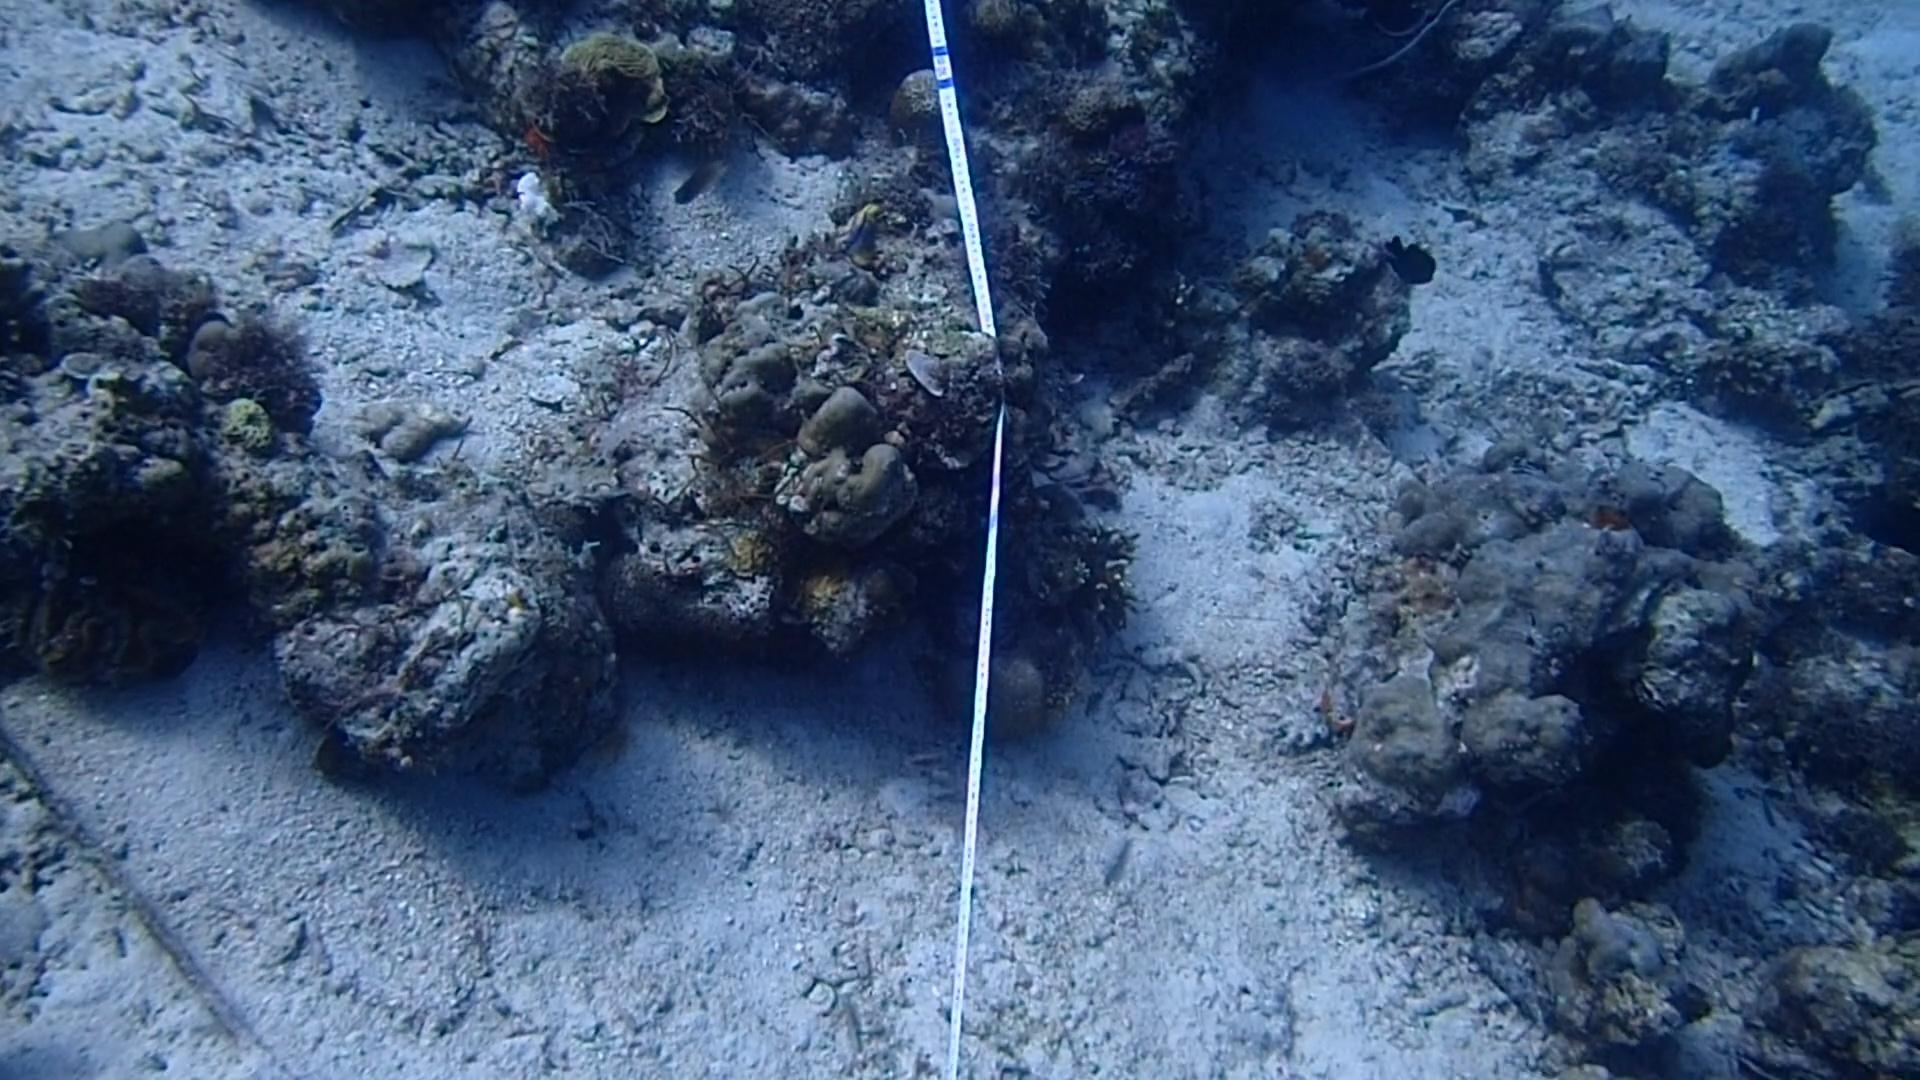Dark Fish: (1833, 477, 1920, 550), (1374, 220, 1441, 289)
Light Fish: (670, 150, 733, 208)
